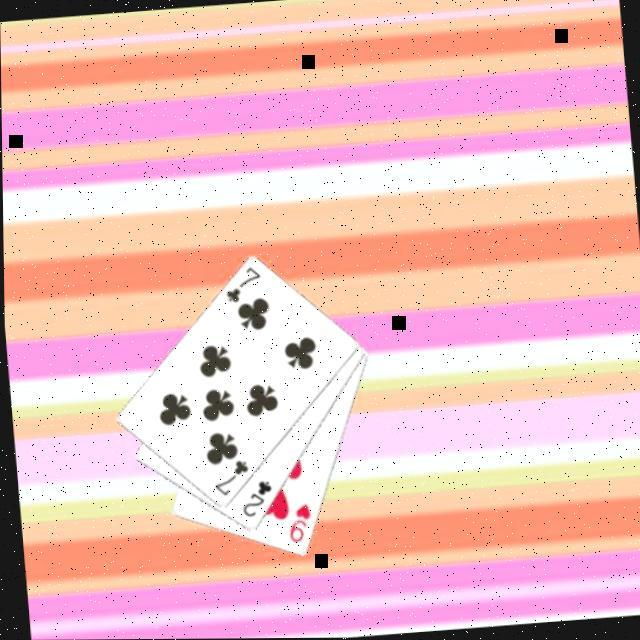2C: (233, 475, 275, 520)
7C: (206, 455, 252, 499), (218, 261, 264, 305)
9H: (280, 499, 314, 545)
